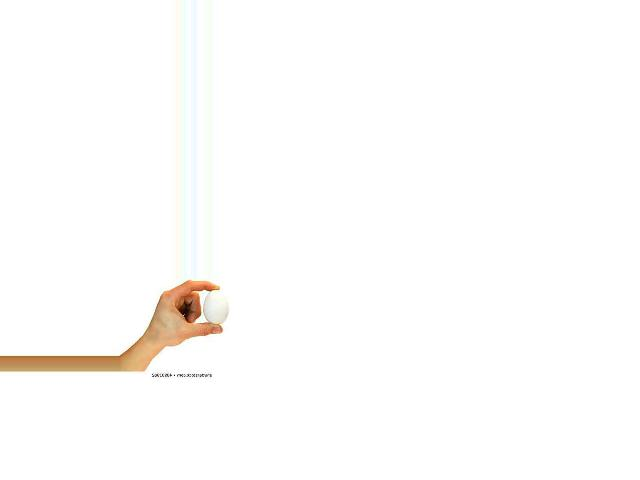egg: (202, 290, 227, 325)
